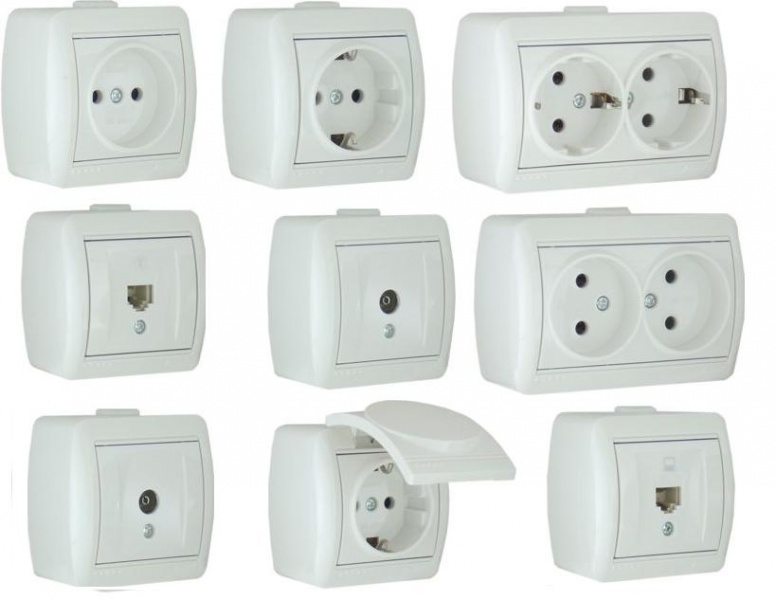raccoon: (87, 41, 178, 153), (310, 47, 405, 153), (528, 49, 623, 153), (642, 247, 731, 356), (550, 250, 641, 355), (624, 48, 713, 155), (350, 454, 435, 556)
